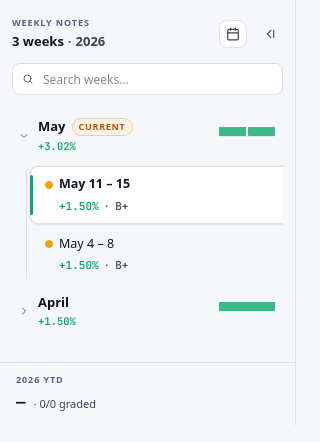
Scenario: NotesRail — Phase 6 left-rail navigator › search input filters items by case-insensitive title substring
The width and height of the screenshot is (320, 442).
Type "apr" into the field with test id "rail-search".
click(148, 79); type("apr")  # box [12,63,283,95]
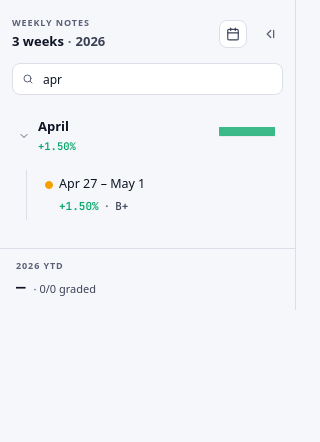
Check: the button "May 11 – 15" is gone
Check: the button "May 4 – 8" is gone
Check: the text "Apr 27 – May 1" is shown, box [59,175,145,194]
